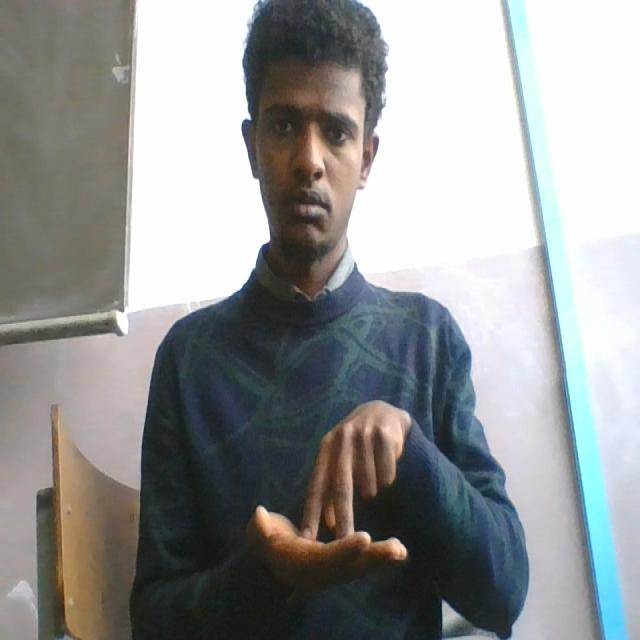mezlel: (242, 394, 414, 583)
